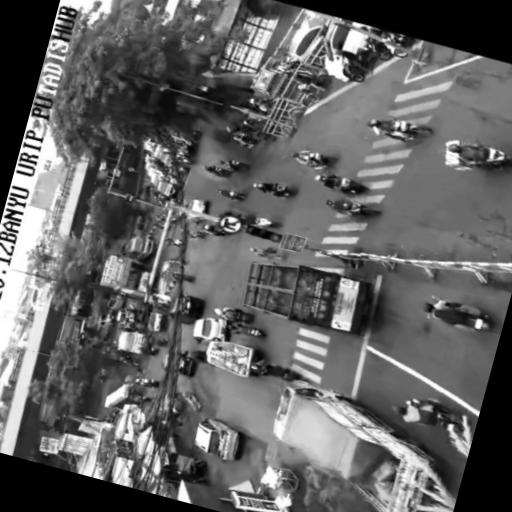motorcycle: (446, 146, 511, 170), (458, 306, 492, 331), (391, 120, 433, 140), (384, 32, 413, 57), (333, 176, 366, 195), (366, 37, 393, 60), (437, 405, 462, 429), (343, 201, 379, 216), (298, 83, 321, 106), (309, 152, 334, 170), (187, 459, 207, 479), (345, 63, 365, 82), (182, 392, 201, 411), (272, 183, 295, 197), (282, 368, 302, 381), (238, 134, 258, 147), (252, 130, 275, 141), (232, 310, 253, 322), (256, 217, 281, 227), (244, 326, 266, 337), (176, 152, 194, 165), (231, 160, 251, 171), (214, 166, 231, 177), (229, 190, 245, 200), (210, 225, 225, 235), (189, 230, 206, 238), (146, 378, 160, 387), (136, 396, 151, 404), (182, 274, 195, 281), (173, 239, 185, 245)
truck: (274, 380, 431, 511), (243, 261, 369, 334), (206, 341, 259, 377), (122, 236, 155, 260), (118, 331, 152, 354)
